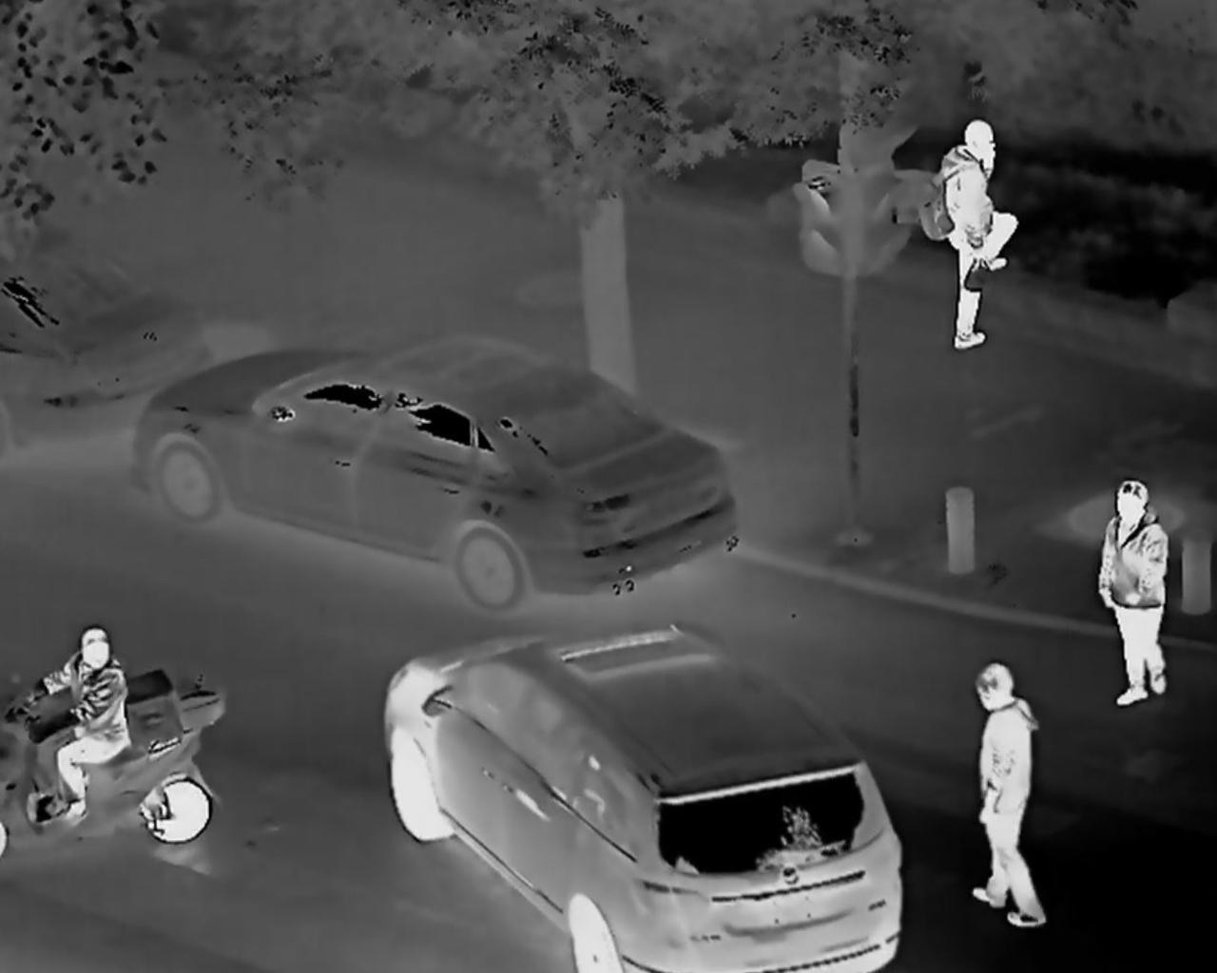person: (952, 652, 1068, 933), (924, 112, 1022, 356), (22, 623, 136, 820), (1098, 482, 1178, 704)
